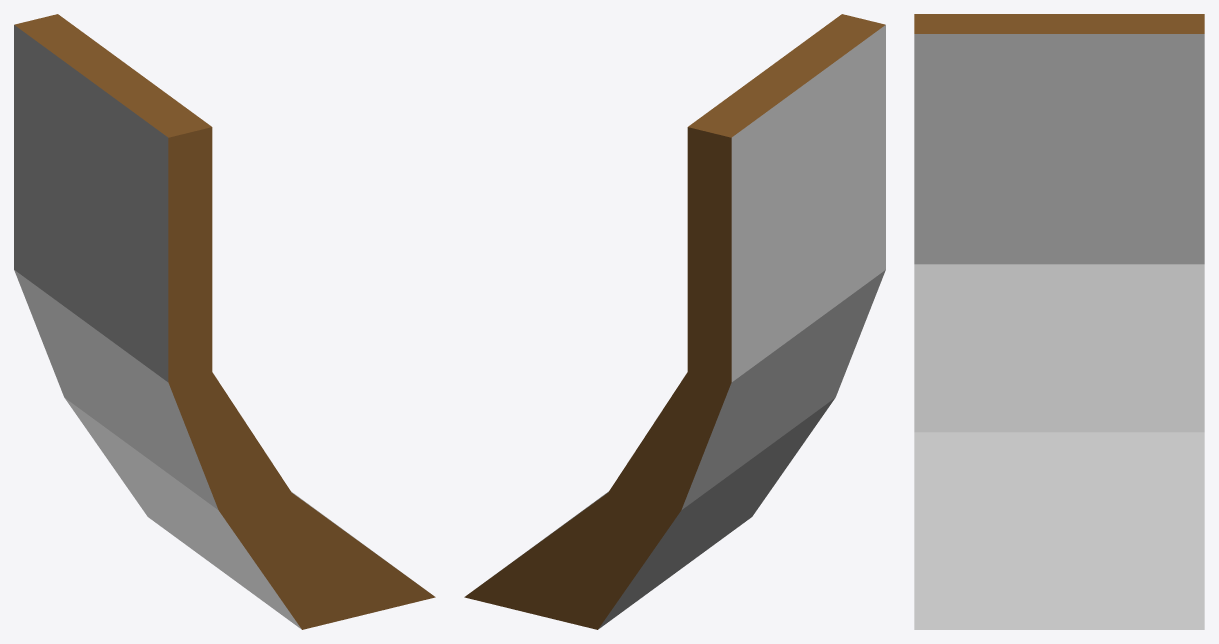
The model's file is model_loc_234_8.obj.
3 renders of one model, left to right at view 1: azimuth 30°, elevation 25°; view 2: azimuth 150°, elevation 25°; view 3: azimuth 270°, elevation 25°, orthographic. The views are drawn at different scales.
Parts seen in each view (by area): view 1: 1846; view 2: 1846; view 3: 1846.
Part boxes in pixels (bbox=[...]): 1846: bbox=[14, 14, 435, 629]; 1846: bbox=[464, 14, 885, 629]; 1846: bbox=[914, 14, 1204, 629].
Bounding box in the file's own units: 128 × 240 × 128.
